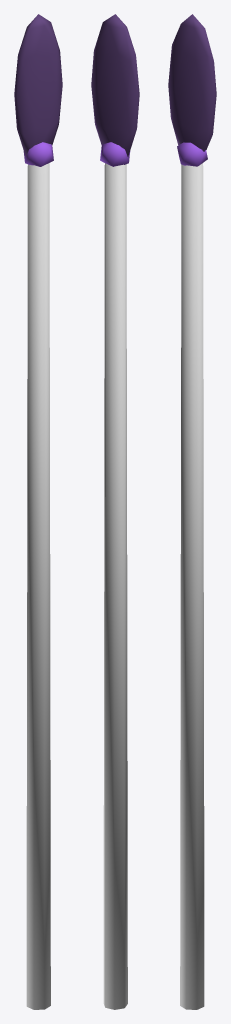
File: scourge_of_the_corruptor.glb
3 renders of one model, left to right at view 1: azimuth 30°, elevation 25°; view 2: azimuth 150°, elevation 25°; view 3: azimuth 330°, elevation 25°, orthographic.
Visible parts, largest first — view 1: scourge_of_the_corruptor_v0; view 2: scourge_of_the_corruptor_v0; view 3: scourge_of_the_corruptor_v0.
Boxes of the visible parts, left/top/right/bottom form: scourge_of_the_corruptor_v0: left=14, top=14, right=62, bottom=1009; scourge_of_the_corruptor_v0: left=91, top=14, right=139, bottom=1009; scourge_of_the_corruptor_v0: left=168, top=14, right=216, bottom=1009.
Bounding box in the file's own units: 0.0761 × 1.57 × 0.0425.
